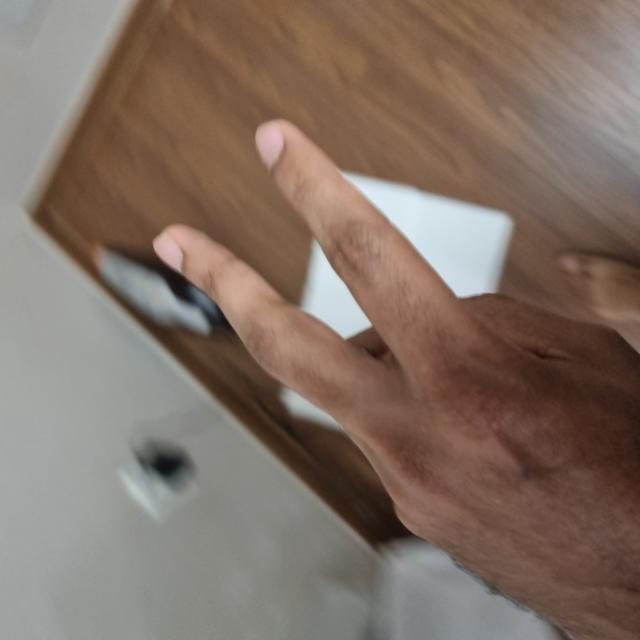Scissors: (0, 156, 520, 639)
